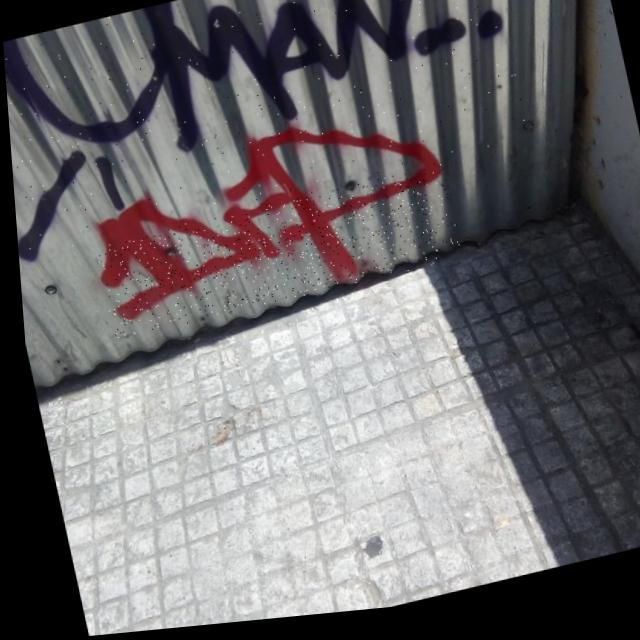-: (0, 0, 532, 264), (74, 100, 462, 344)
